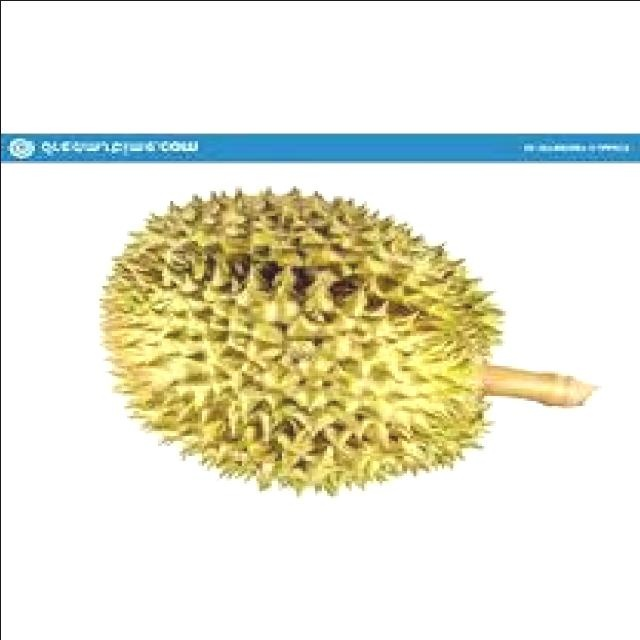agrume: (86, 173, 517, 523)
